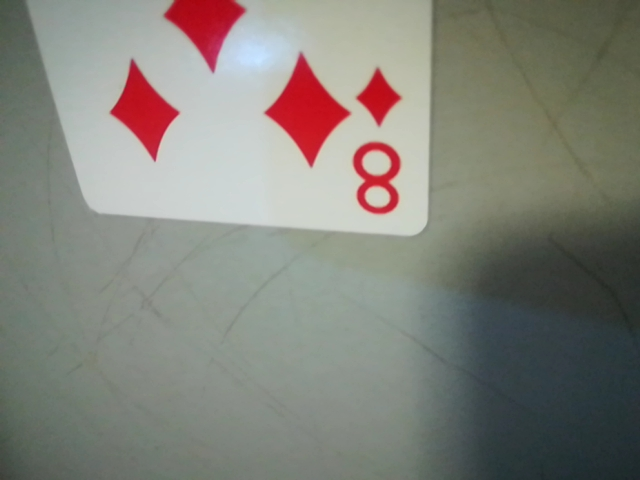fk 8: (341, 52, 418, 229)
